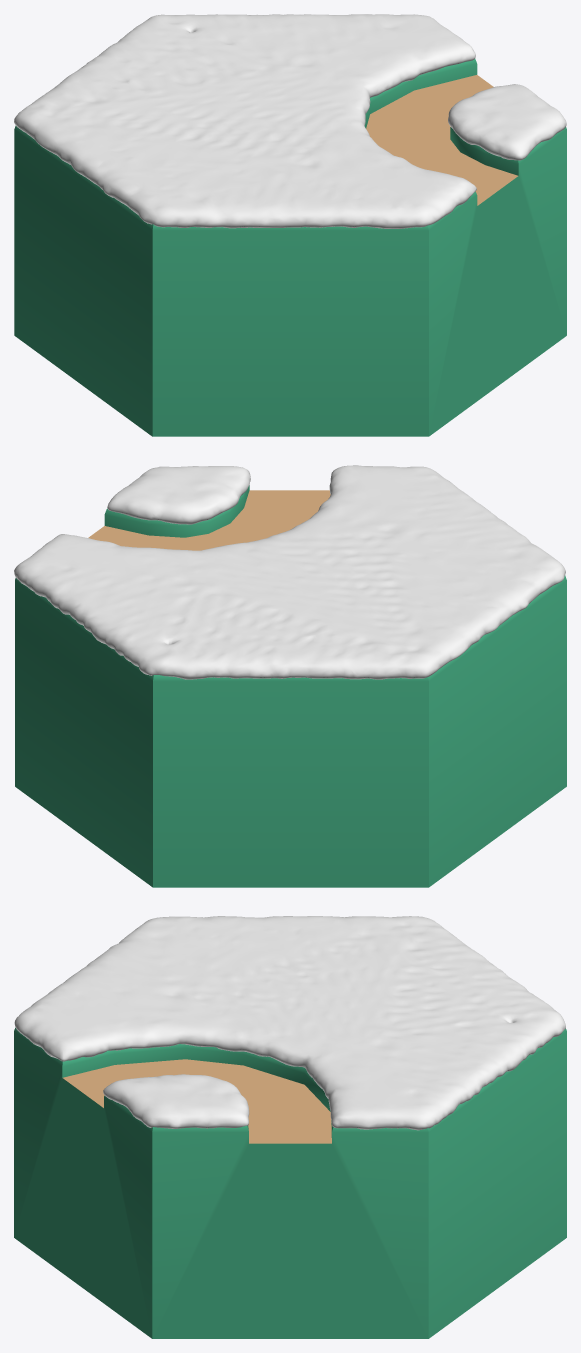
The model's file is snow_hex_forest_roadC.fbx.
3 renders of one model, top to bottom at view 1: azimuth 30°, elevation 25°; view 2: azimuth 150°, elevation 25°; view 3: azimuth 270°, elevation 25°, orthographic.
Parts seen in each view (by area): view 1: hex_forest_roadC.001, SnowBall.001, hex_forest_roadC; view 2: hex_forest_roadC.001, SnowBall.001, hex_forest_roadC; view 3: hex_forest_roadC.001, SnowBall.001, hex_forest_roadC.
Boxes of the visible parts, box(x1,y1,x2,y2) form: hex_forest_roadC.001: box(14, 58, 566, 436); SnowBall.001: box(14, 14, 566, 228); hex_forest_roadC: box(366, 75, 517, 205); hex_forest_roadC.001: box(15, 485, 566, 887); SnowBall.001: box(14, 465, 565, 679); hex_forest_roadC: box(88, 490, 330, 550); hex_forest_roadC.001: box(14, 1027, 566, 1338); SnowBall.001: box(14, 916, 565, 1130); hex_forest_roadC: box(63, 1059, 331, 1143).
Size of the model in its own units: 203 by 104 by 231.
